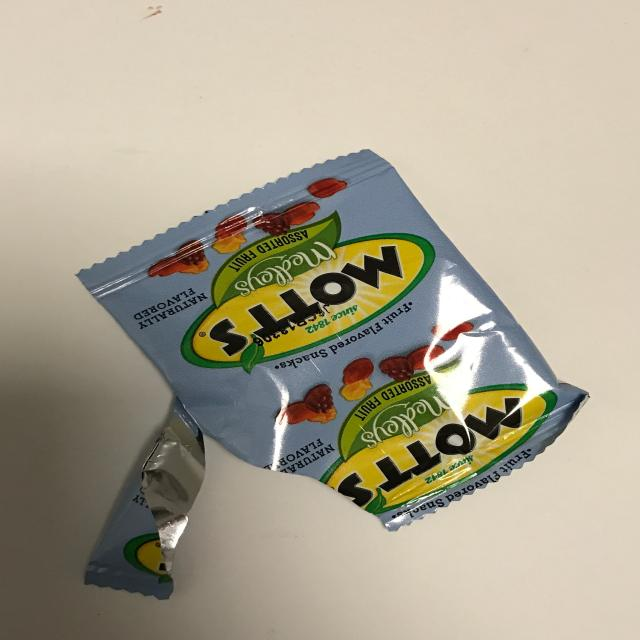trash: (75, 148, 590, 532)
